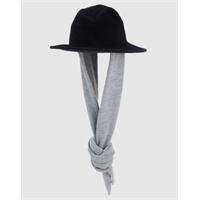hat: (50, 4, 147, 53)
